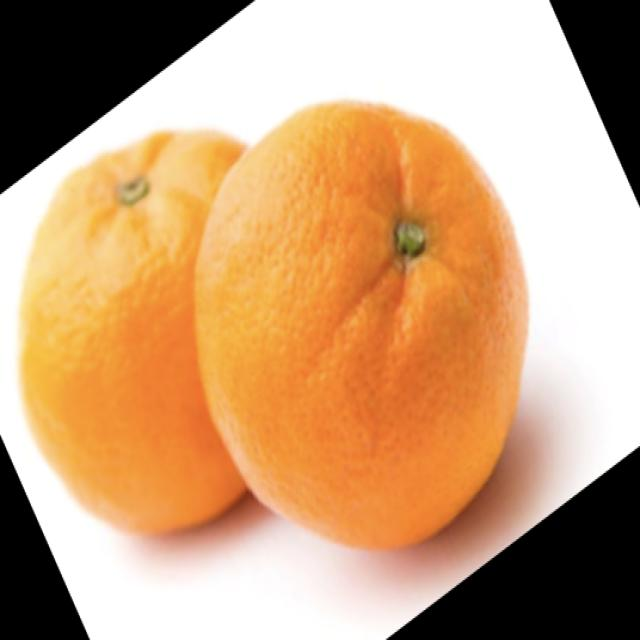orange: (204, 130, 554, 562), (30, 90, 249, 535)
